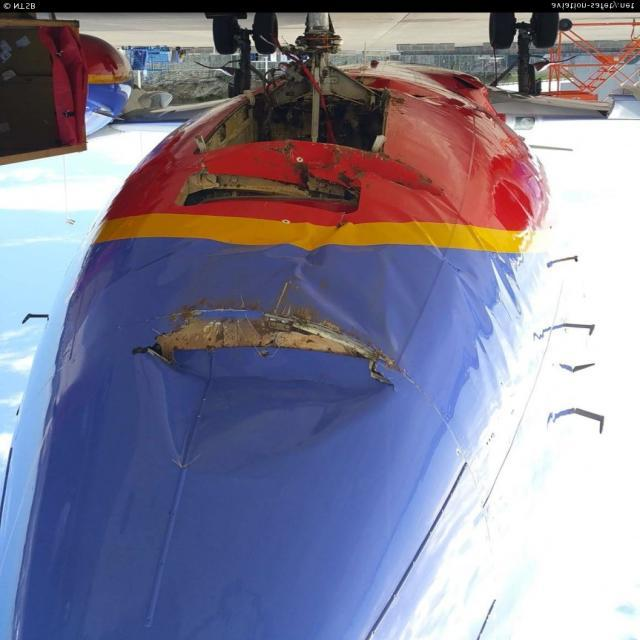dent: (153, 364, 396, 468), (299, 268, 399, 358)
